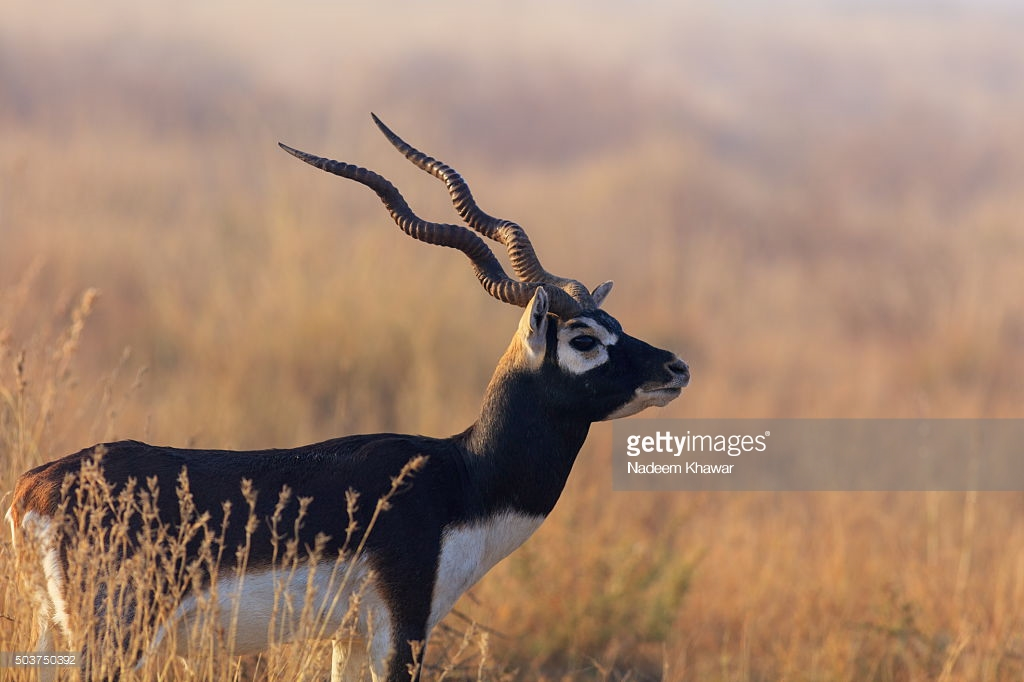Blackbuck: (1, 132, 681, 675)
